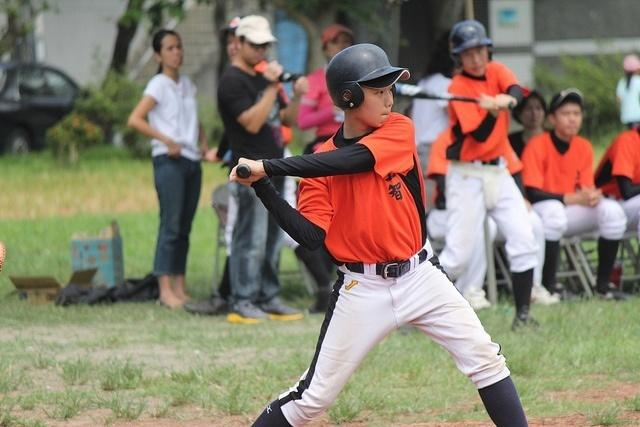car: (0, 60, 80, 157)
